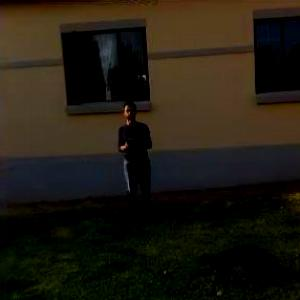follow: (117, 96, 160, 235)
null: (193, 238, 291, 299)
